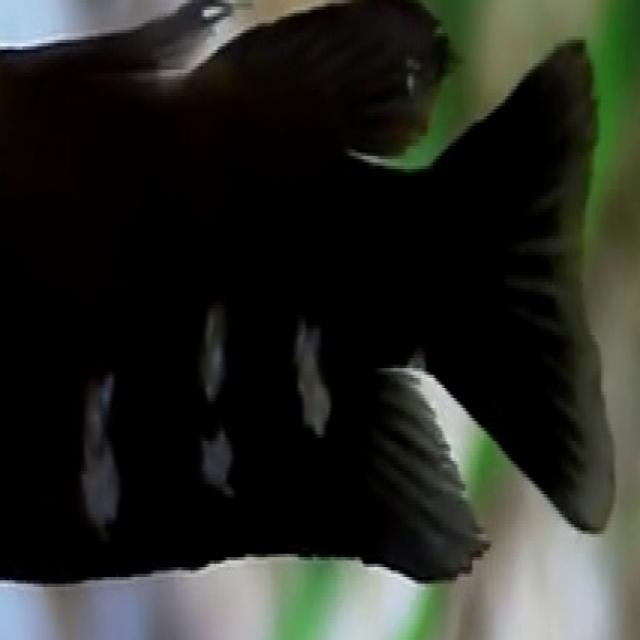fish: (0, 0, 639, 637)
